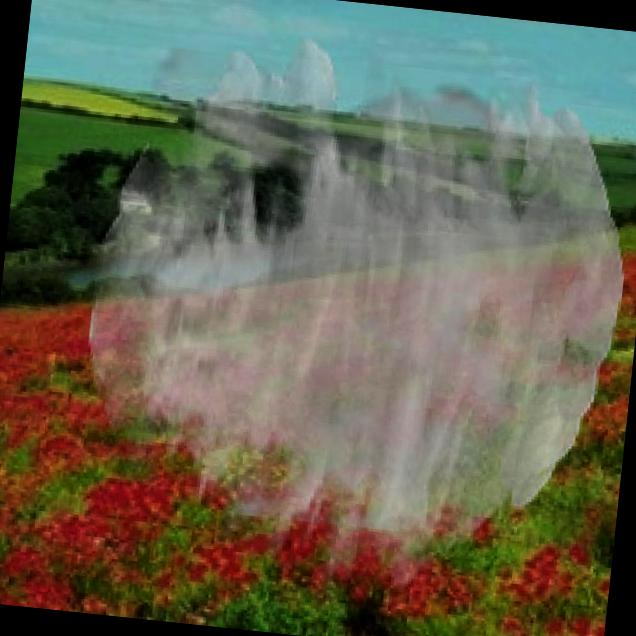smoke: (62, 17, 636, 618)
